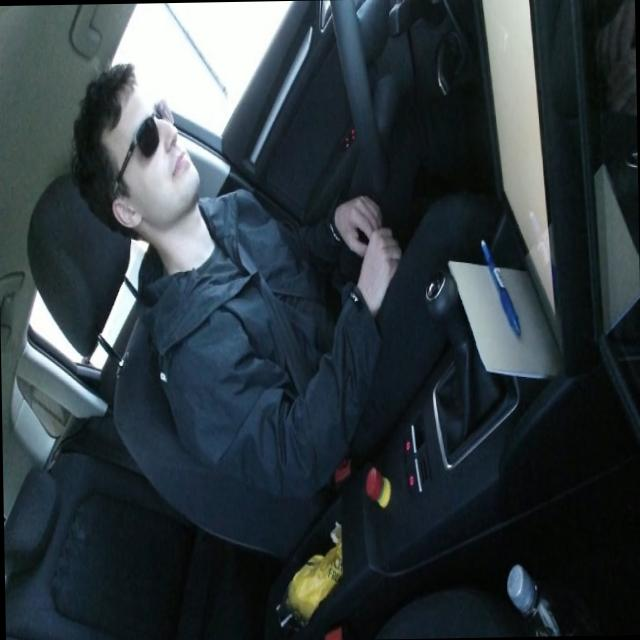pen: (479, 235, 521, 338)
